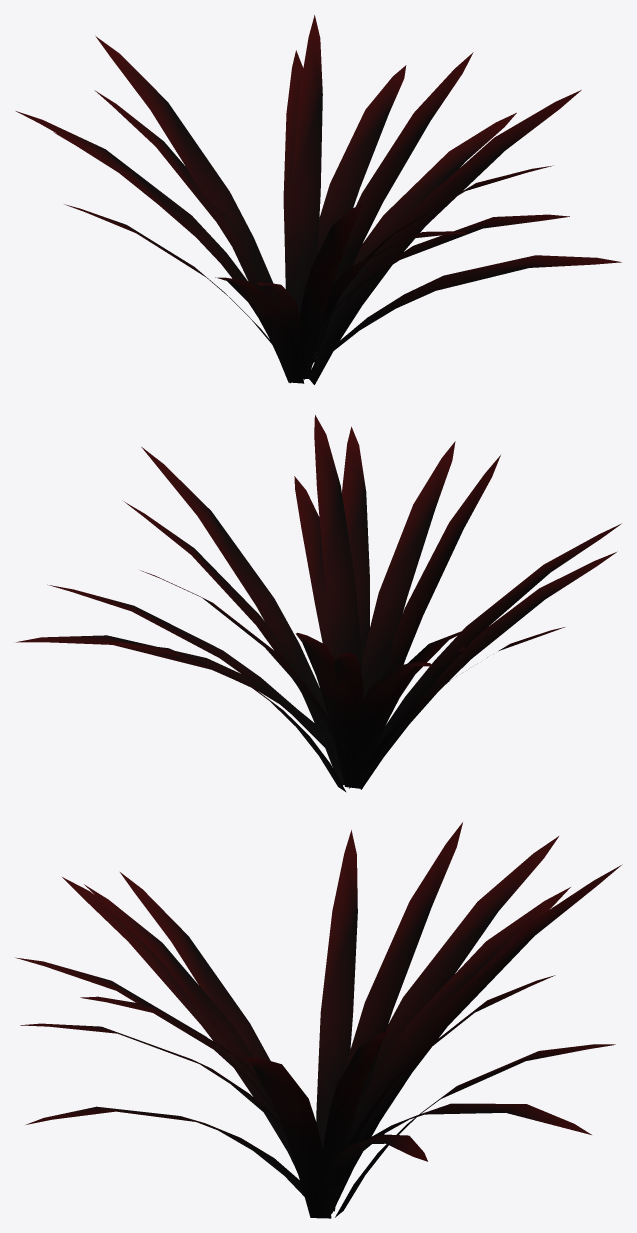
The model's file is Grass01A.fbx.
3 renders of one model, top to bottom at view 1: azimuth 30°, elevation 25°; view 2: azimuth 150°, elevation 25°; view 3: azimuth 270°, elevation 25°, orthographic. The views are drawn at different scales.
Parts seen in each view (by area): view 1: Grass01A; view 2: Grass01A; view 3: Grass01A.
Boxes of the visible parts, x1,y1,x2,y2 form: Grass01A: (16, 15, 621, 384); Grass01A: (16, 415, 621, 792); Grass01A: (15, 822, 622, 1218).
Bounding box in the file's own units: 2.09 × 1.1 × 1.97.
